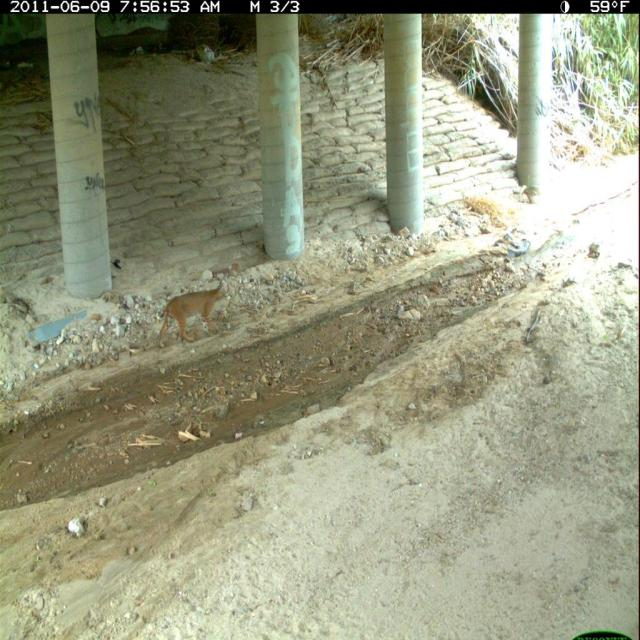bobcat: (155, 276, 235, 354)
